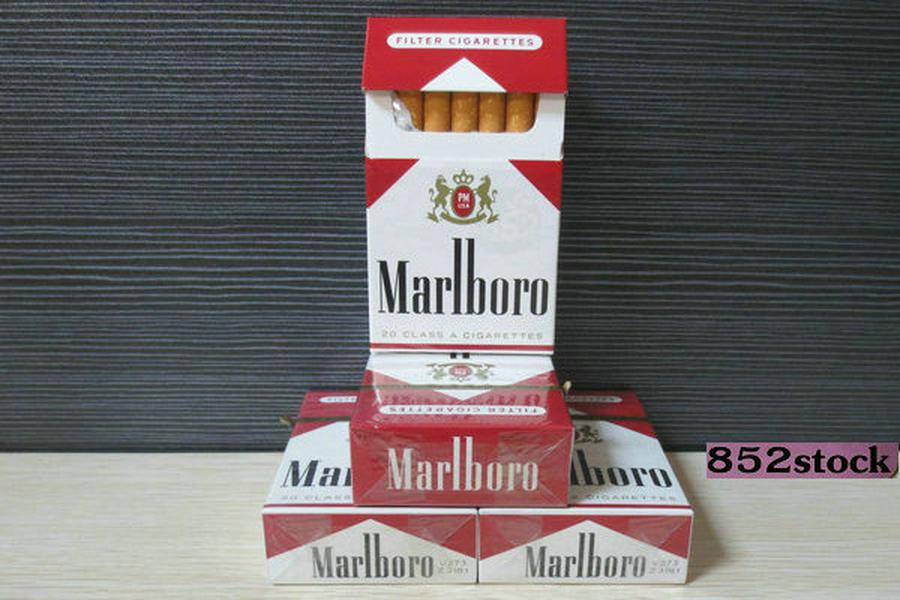marlboro_red: (369, 19, 563, 354), (357, 357, 562, 422), (564, 392, 669, 512), (274, 392, 354, 517)
